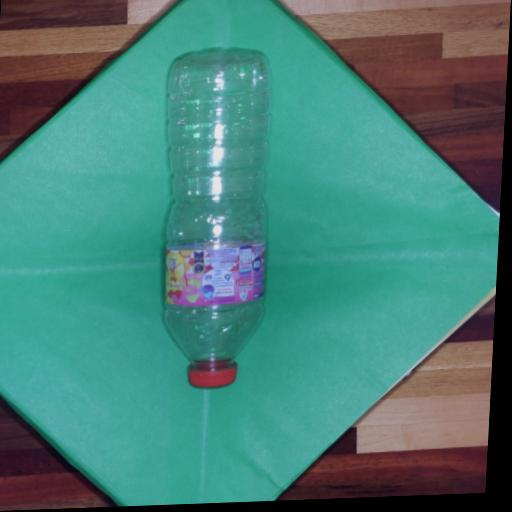bottle: (113, 29, 308, 433)
